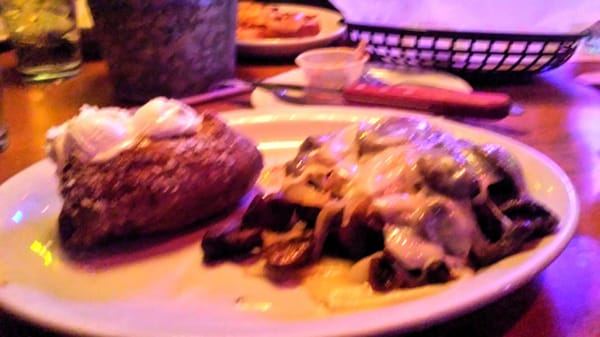pizza: (0, 1, 92, 85)
